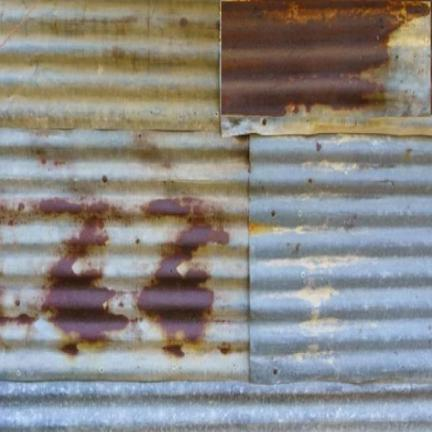karat: (221, 0, 430, 134), (136, 198, 227, 353), (46, 255, 128, 352), (33, 196, 135, 260)
